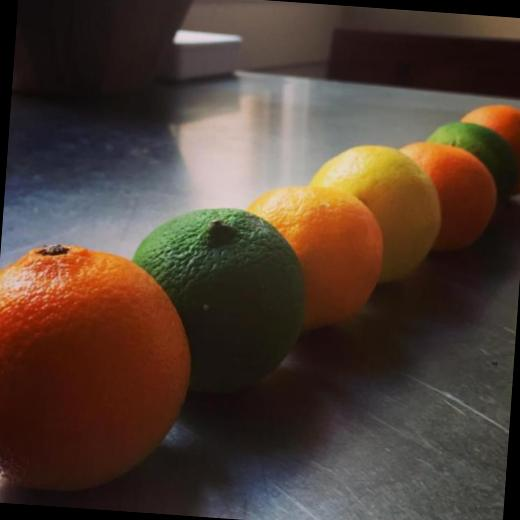Grape: (0, 237, 199, 503), (128, 201, 312, 395), (240, 185, 387, 332), (310, 138, 444, 279), (400, 142, 493, 244), (429, 119, 520, 211), (455, 99, 520, 161)
